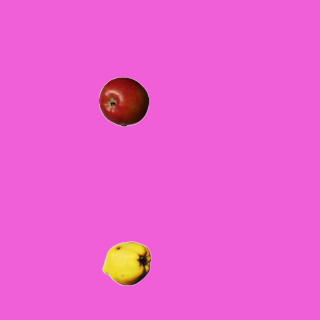Apple Braeburn: (98, 76, 148, 126)
Quince: (101, 238, 151, 288)
